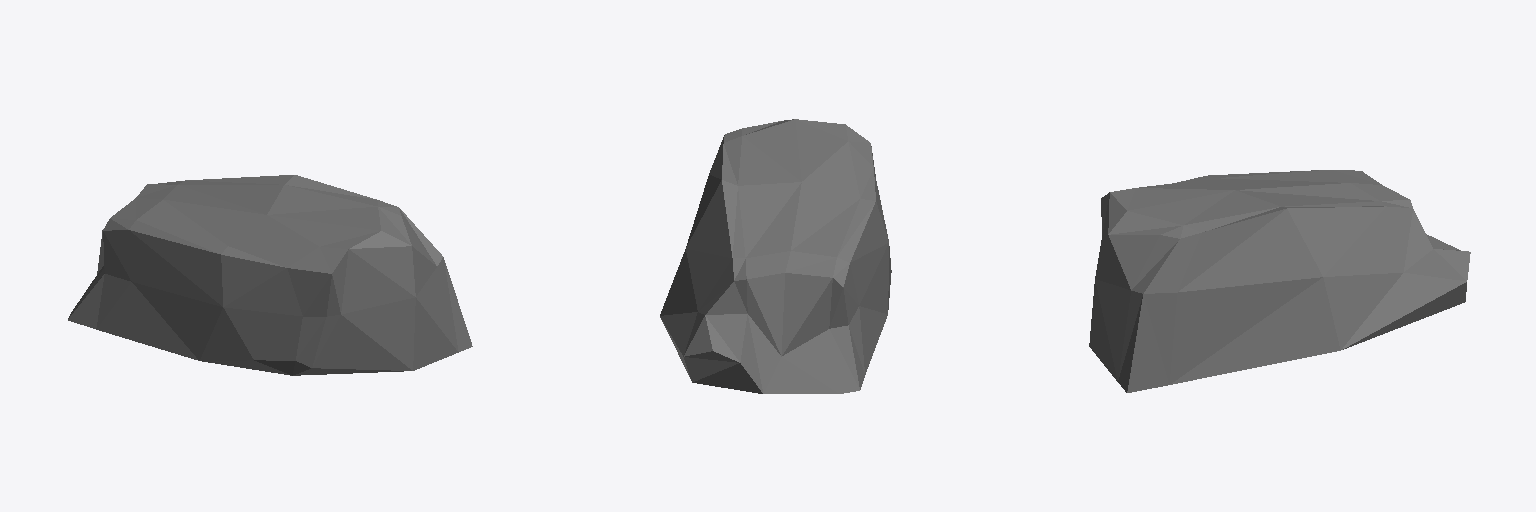
The model's file is rock3.obj.
The picture shows the model from 3 angles: view 1: azimuth 30°, elevation 25°; view 2: azimuth 150°, elevation 25°; view 3: azimuth 270°, elevation 25°; orthographic projection.
Parts seen in each view (by area): view 1: Rock3:pCube3; view 2: Rock3:pCube3; view 3: Rock3:pCube3.
Boxes of the visible parts, box(x1,y1,x2,y2) form: Rock3:pCube3: box(68, 175, 472, 375); Rock3:pCube3: box(660, 119, 891, 393); Rock3:pCube3: box(1089, 170, 1470, 392).
Size of the model in its own units: 98.73 by 46.37 by 116.